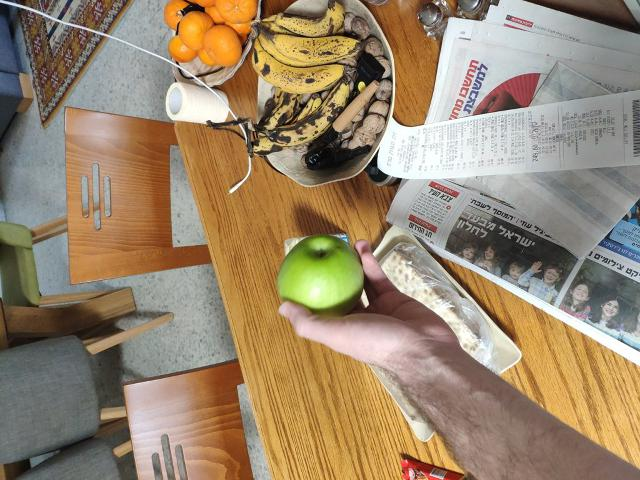apple: (271, 240, 372, 324)
